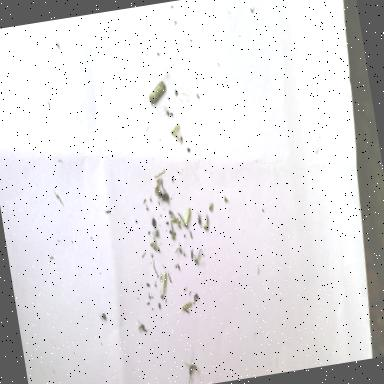pbw: (169, 121, 182, 142), (179, 300, 193, 310)
